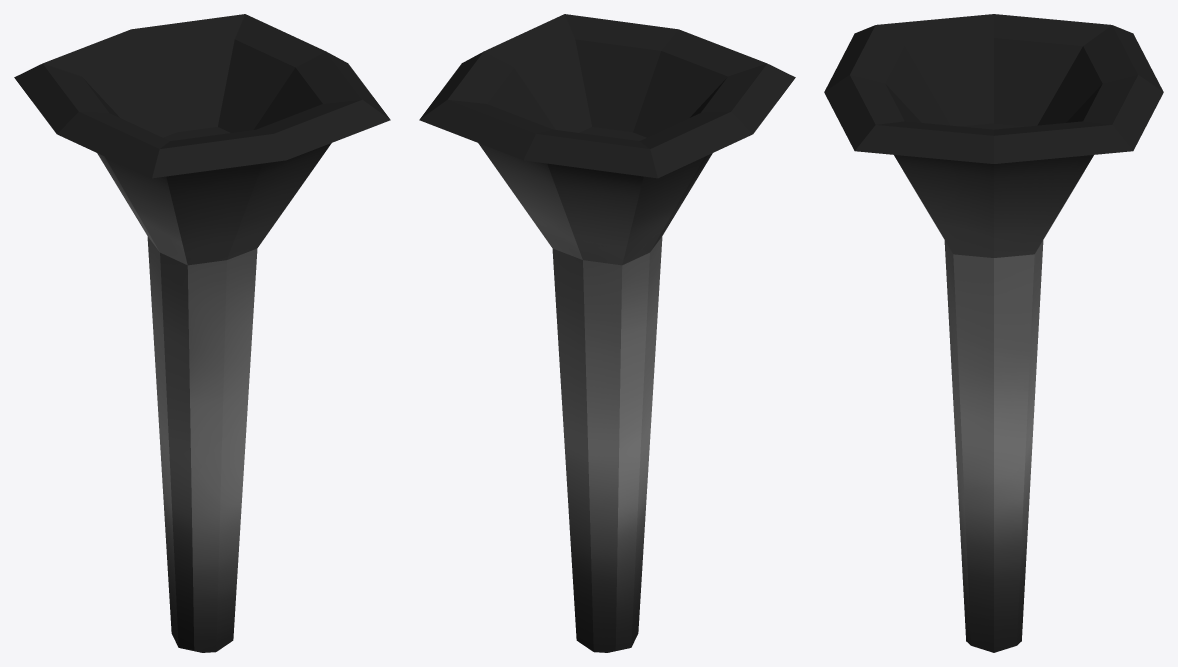
File: Mustatorvisieni_kkorjattu.fbx
The picture shows the model from 3 angles, left to right: view 1: azimuth 30°, elevation 25°; view 2: azimuth 150°, elevation 25°; view 3: azimuth 270°, elevation 25°; orthographic projection.
Parts seen in each view (by area): view 1: Mustatorvisieni; view 2: Mustatorvisieni; view 3: Mustatorvisieni.
Boxes of the visible parts, x1,y1,x2,y2 form: Mustatorvisieni: (14, 14, 390, 652); Mustatorvisieni: (419, 14, 795, 652); Mustatorvisieni: (824, 14, 1163, 652).
Size of the model in its own units: 6.4 by 12 by 6.4.
